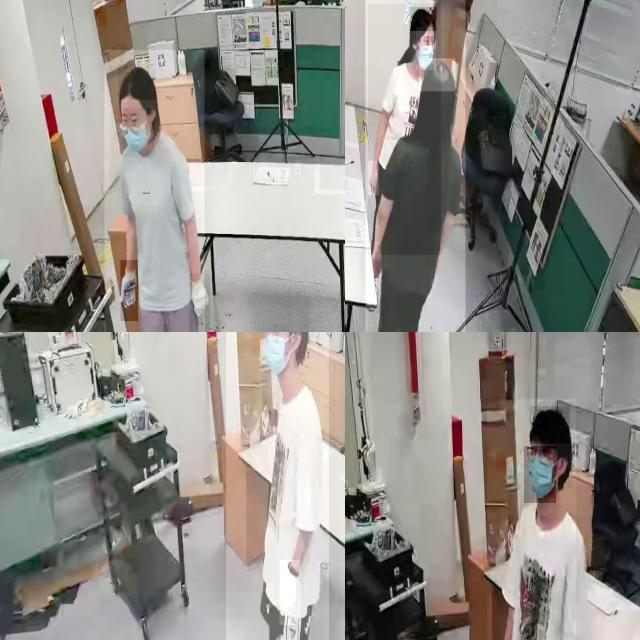face_mask: (524, 446, 556, 503), (123, 108, 155, 158), (263, 332, 292, 374), (416, 27, 436, 70)
glasses: (118, 115, 142, 140)
hand_glove: (279, 560, 301, 626), (189, 273, 210, 332), (120, 260, 138, 322)
hand_noglove: (370, 242, 382, 278), (368, 161, 380, 196)
head_nohelmet: (530, 406, 570, 444), (118, 64, 156, 101), (419, 58, 456, 92), (409, 7, 437, 32)
person: (365, 0, 466, 332), (226, 332, 329, 640), (104, 50, 205, 332), (487, 399, 577, 640), (368, 3, 441, 255)
